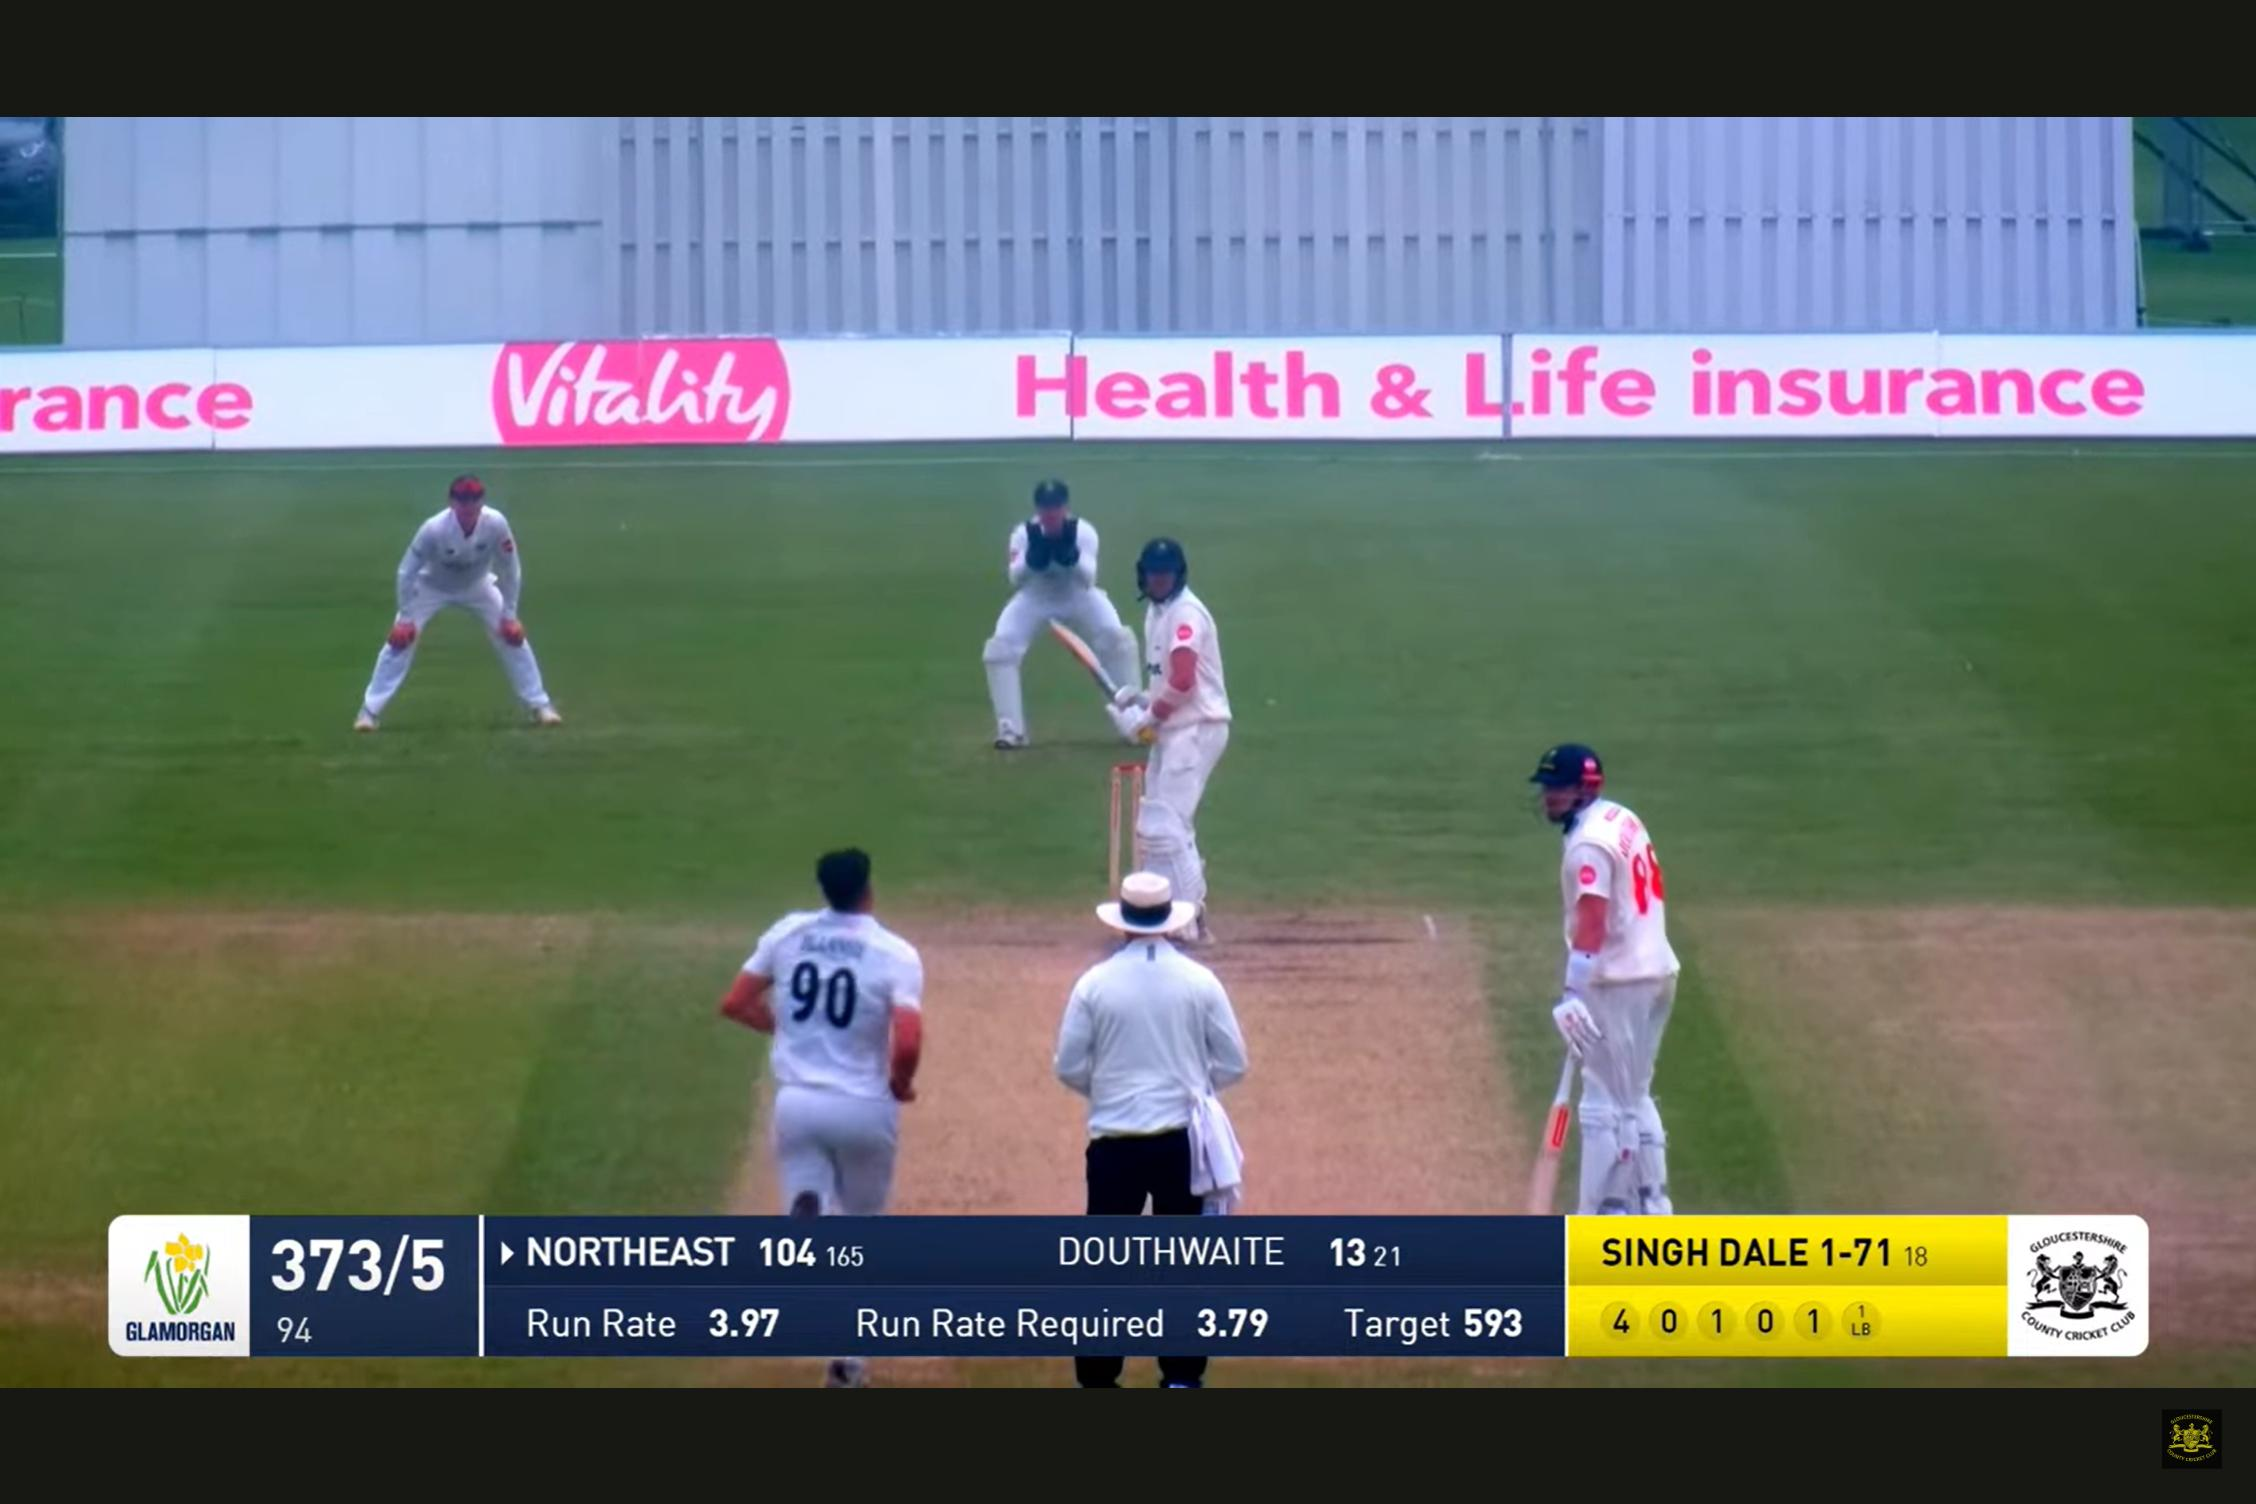batsman: (1041, 524, 1240, 920)
bowler running in: (702, 802, 945, 1215)
non striker: (1517, 723, 1722, 1198)
